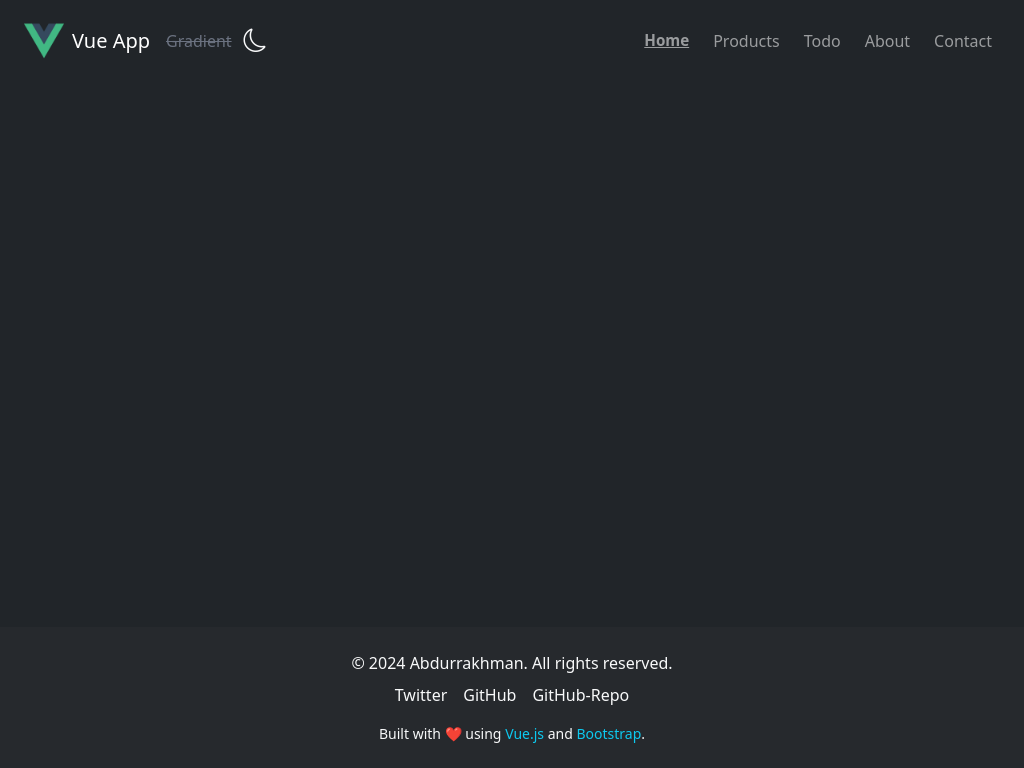
Test: ToDo View Page › expect we are at the right page by clicking the link
Click the link "todo". click: (823, 41)
box: [804,30,841,52]
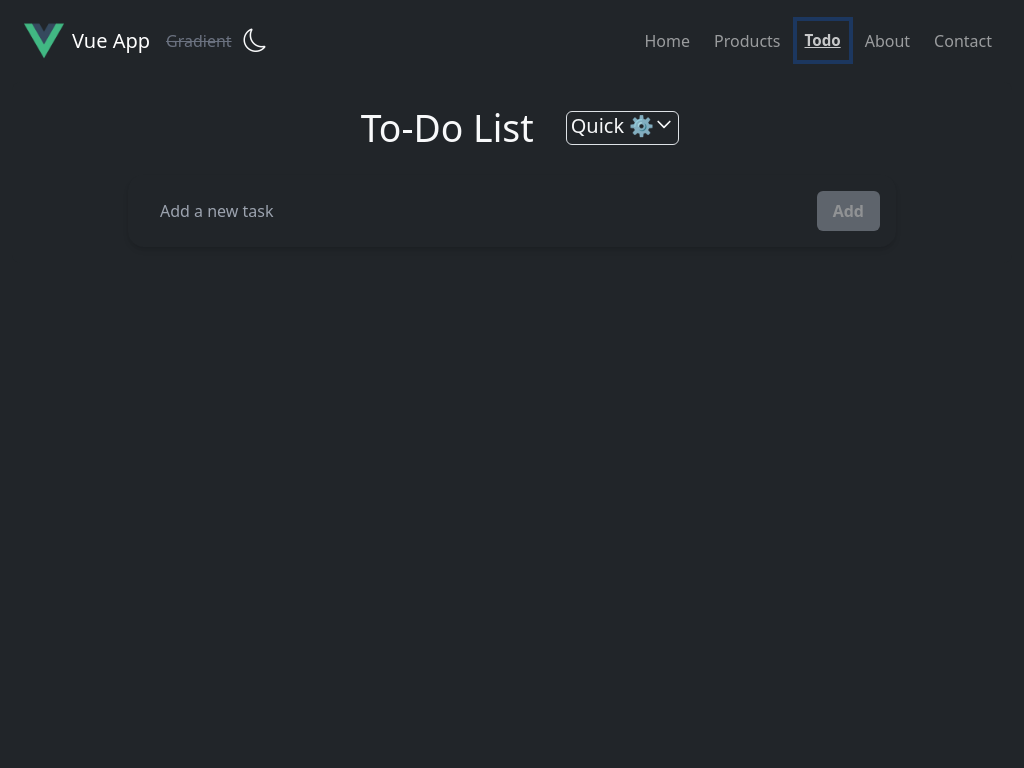
Expected: the heading "To-Do List" is shown, [361,106,534,151]
